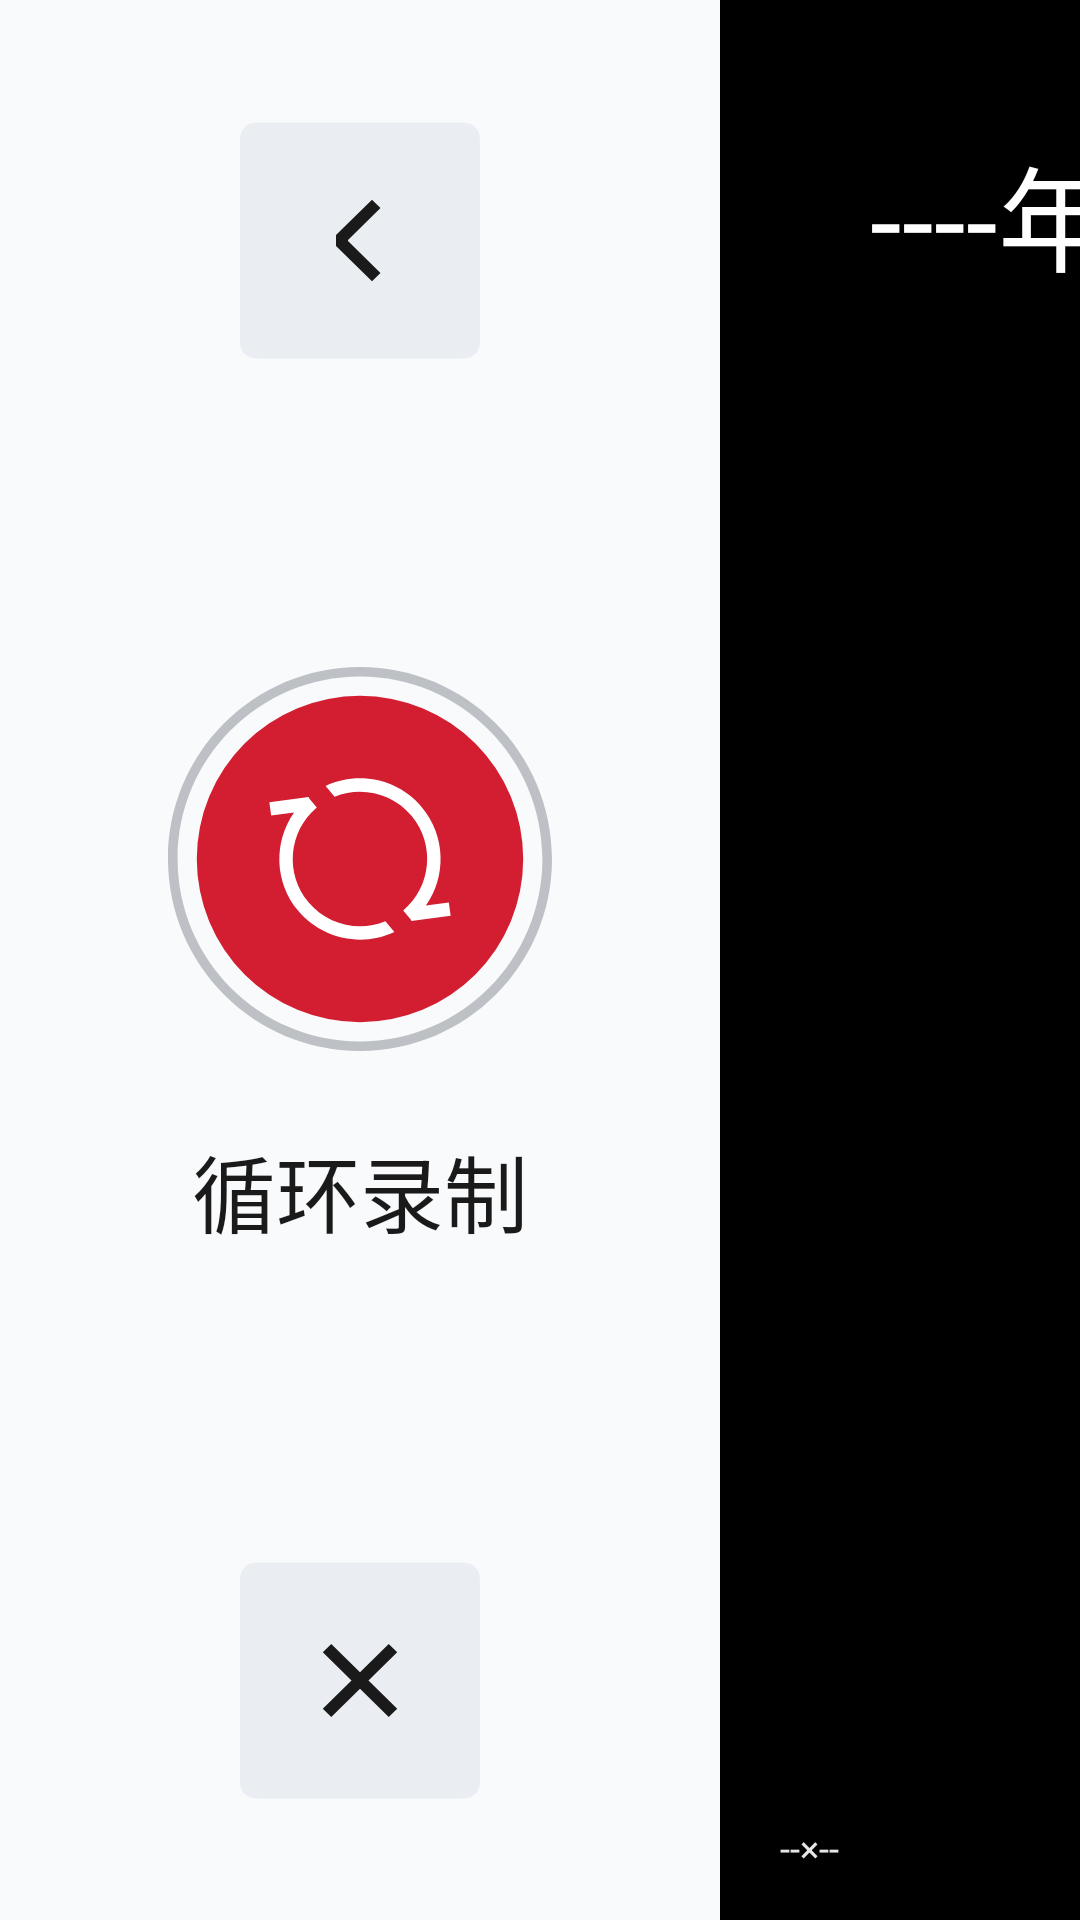

Icon click points for this 1080px x 1920px phone screenshot, format (x,y):
关闭: (360,1680)
